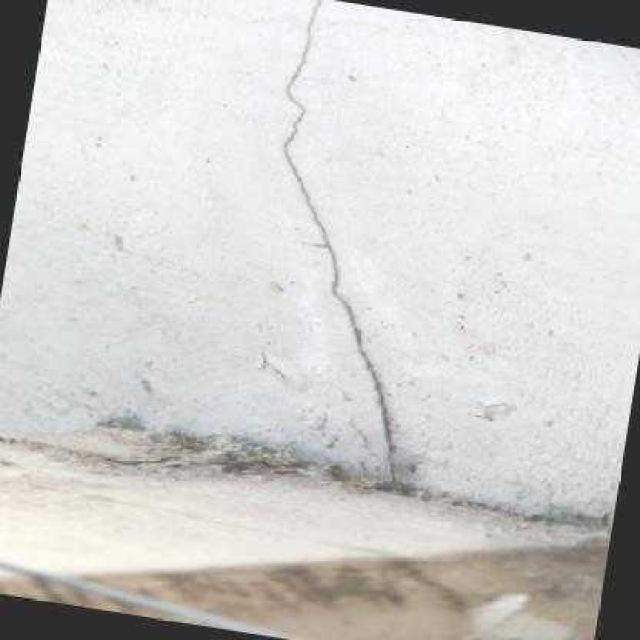D00: (280, 0, 399, 483)
